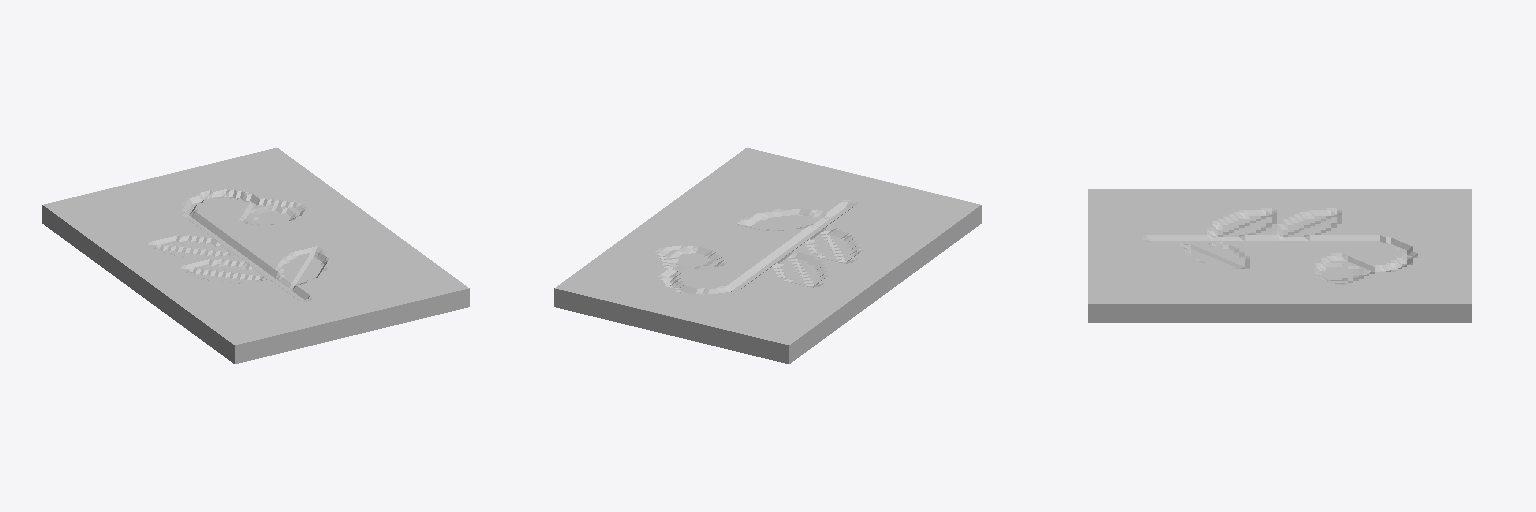
Rendered from snowdropTest.obj.
The picture shows the model from 3 angles: view 1: azimuth 30°, elevation 25°; view 2: azimuth 150°, elevation 25°; view 3: azimuth 270°, elevation 25°; orthographic projection.
Visible parts, largest first — view 1: Low_poly_snowdrop; view 2: Low_poly_snowdrop; view 3: Low_poly_snowdrop.
Boxes of the visible parts, <box> form: Low_poly_snowdrop: <box>42,148,469,363</box>; Low_poly_snowdrop: <box>554,148,981,363</box>; Low_poly_snowdrop: <box>1088,189,1471,322</box>.
Size of the model in its own units: 2.96 by 0.2277 by 4.2.